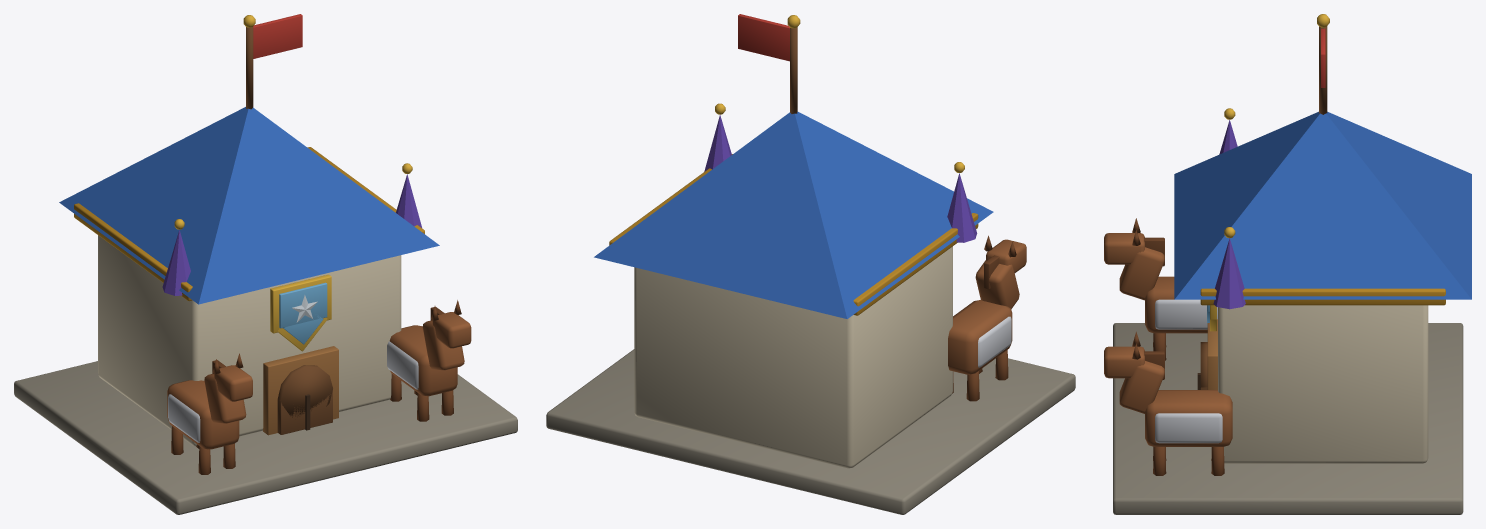
Rendered from k_camp_cavalry.glb.
3 views of the same model, side by side, from view 1: azimuth 30°, elevation 25°; view 2: azimuth 150°, elevation 25°; view 3: azimuth 270°, elevation 25° (orthographic). The views are drawn at different scales.
Visible parts, largest first — view 1: SK_k_camp_cavalry; view 2: SK_k_camp_cavalry; view 3: SK_k_camp_cavalry.
Boxes of the visible parts, bbox=[...] form: SK_k_camp_cavalry: bbox=[14, 14, 517, 514]; SK_k_camp_cavalry: bbox=[546, 14, 1075, 514]; SK_k_camp_cavalry: bbox=[1104, 14, 1471, 514].
Size of the model in its own units: 3.6 by 3.9 by 3.15.
